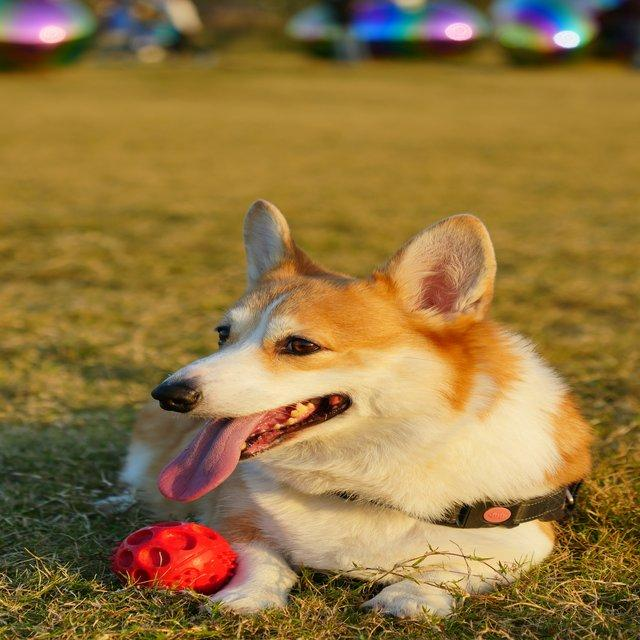corgi: (119, 197, 596, 621)
